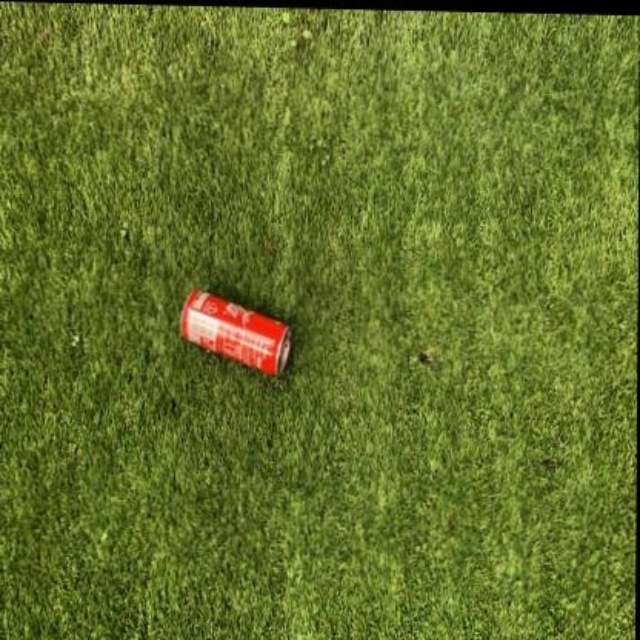trash: (182, 289, 289, 374)
